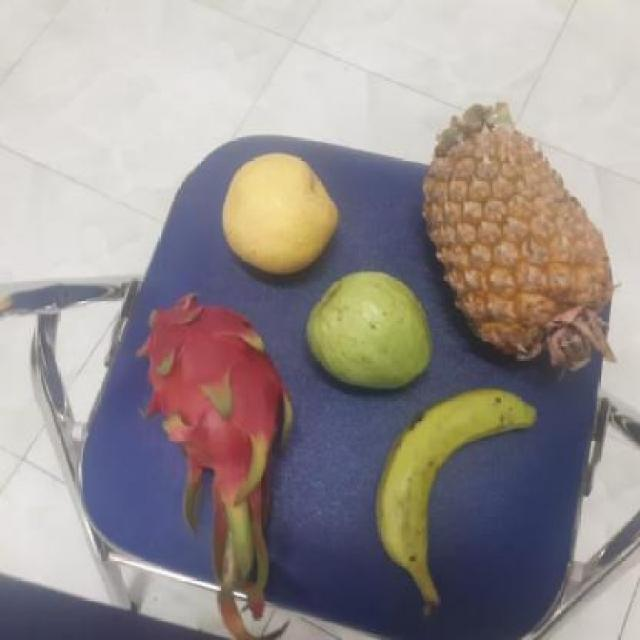banana: (368, 392, 530, 580)
dragon fruit: (136, 298, 292, 492)
guava: (300, 273, 432, 389)
pear: (216, 155, 341, 276)
pineapple: (424, 119, 602, 370)
